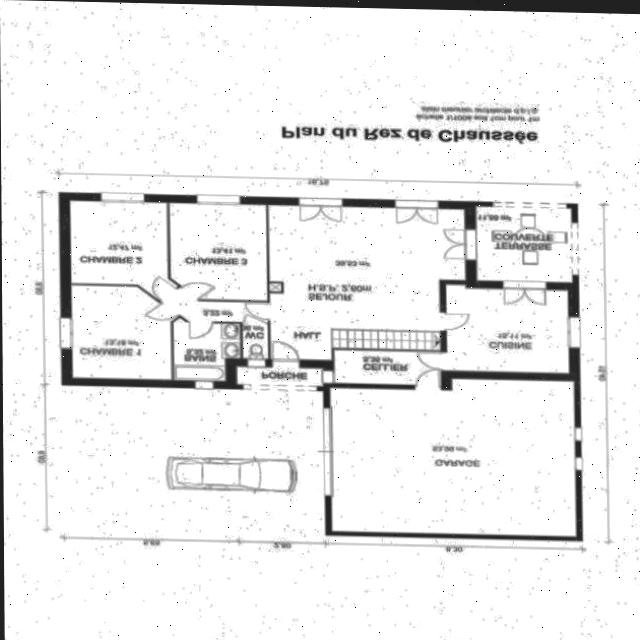room: (328, 378, 576, 537), (266, 205, 466, 363), (444, 285, 570, 374), (67, 201, 179, 300), (69, 285, 178, 380), (152, 284, 278, 363), (168, 203, 268, 301), (474, 207, 573, 282), (172, 317, 241, 381), (333, 349, 441, 386), (236, 366, 323, 386)
